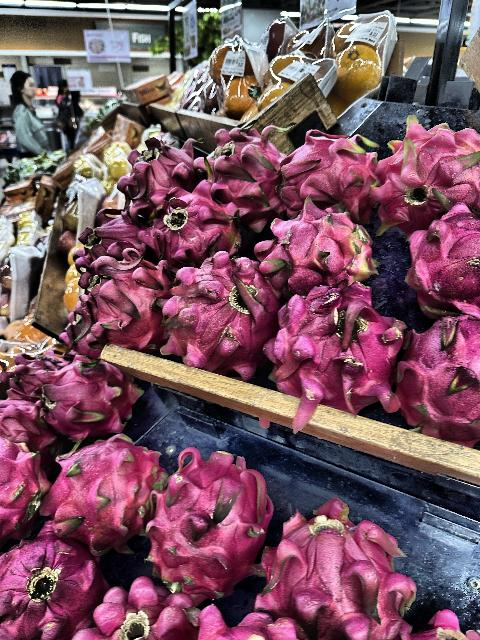buah-naga-belum-matang: (260, 208, 382, 284)
buah-naga-matang: (147, 434, 273, 602), (266, 494, 410, 638), (266, 278, 400, 427), (152, 256, 284, 384), (370, 103, 480, 225), (38, 445, 166, 545), (260, 119, 380, 217), (60, 258, 180, 352), (0, 536, 106, 640), (396, 320, 480, 448), (142, 188, 260, 270), (404, 202, 480, 324), (47, 208, 167, 284), (23, 362, 141, 436), (194, 129, 288, 221), (110, 134, 204, 214), (0, 430, 50, 540)
